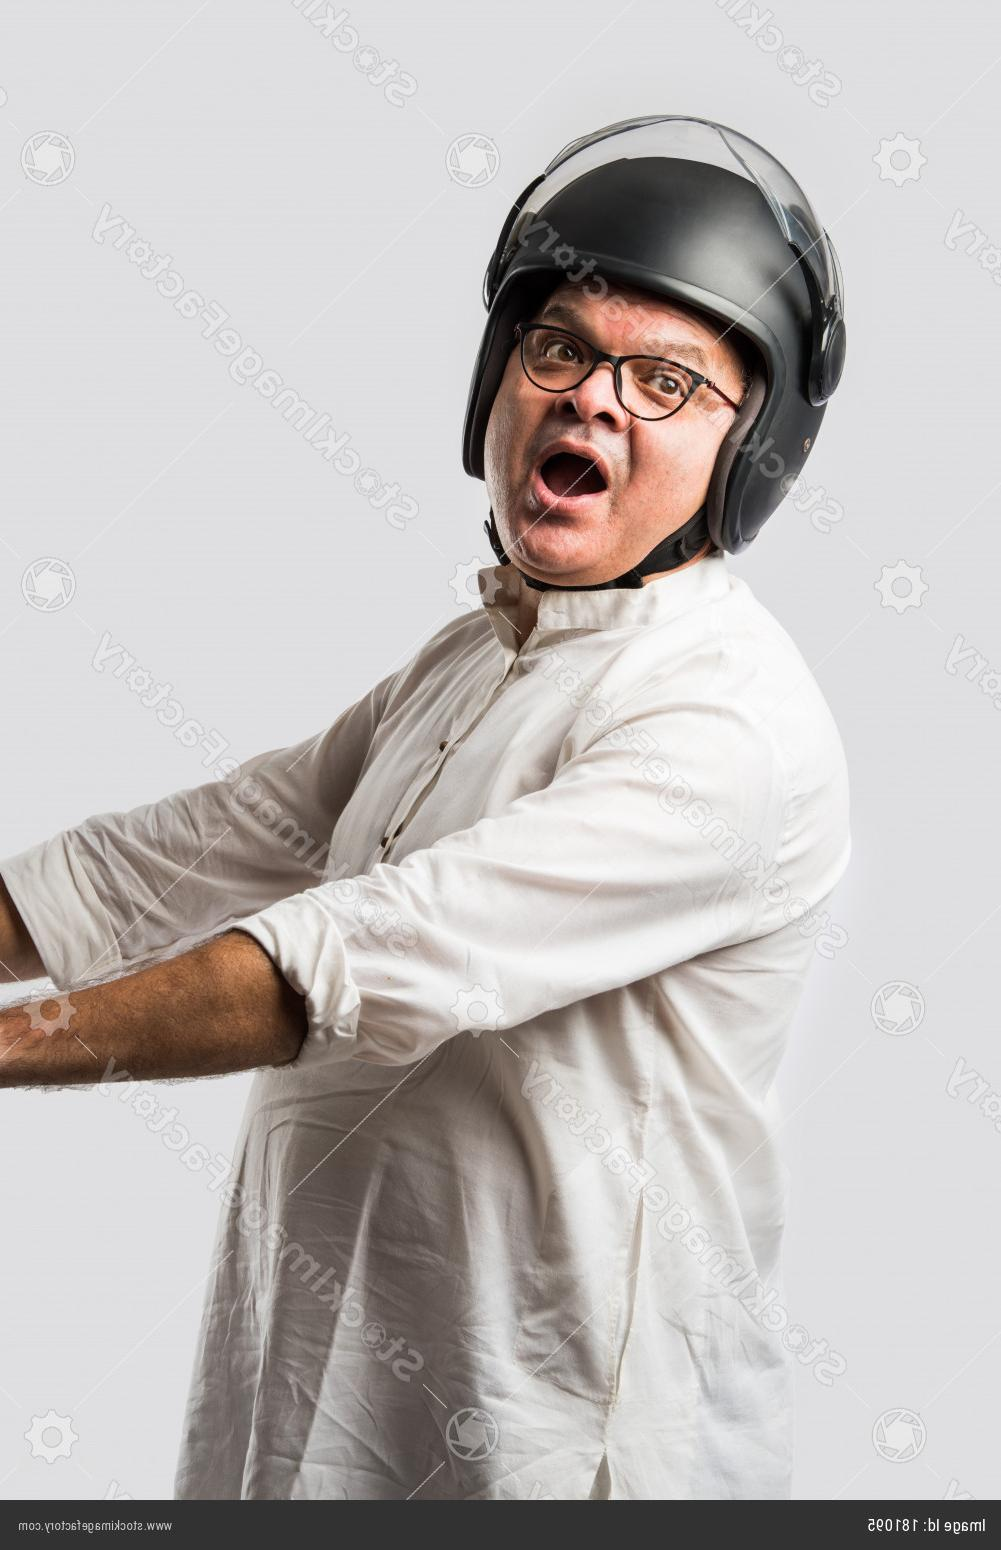Helmet: (437, 98, 859, 482)
